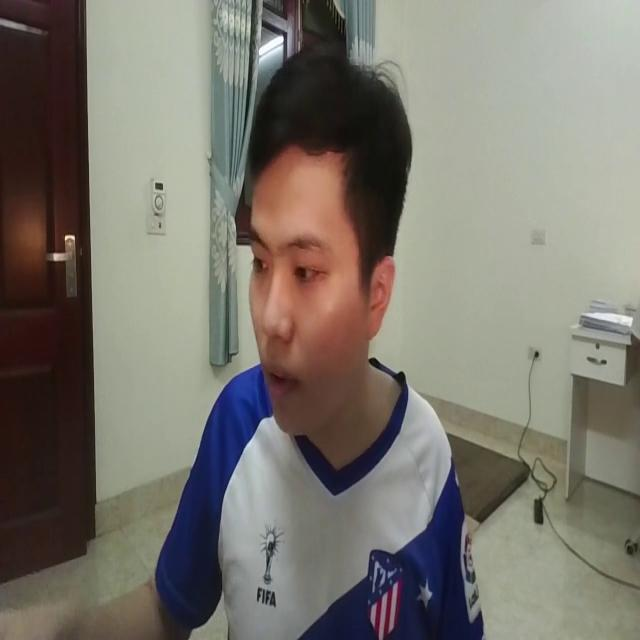student: (132, 8, 496, 640)
